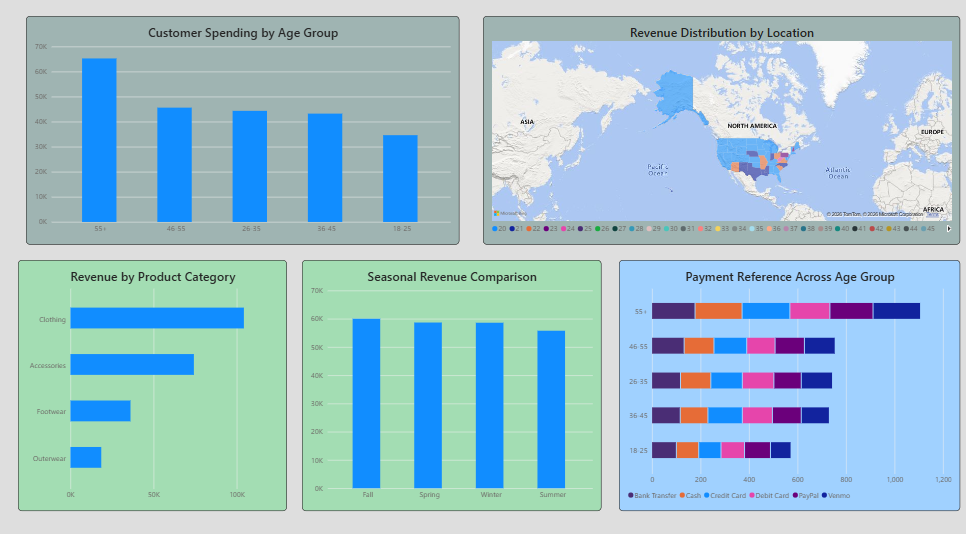

The page's visual inventory and layout, read from the dashboard file:
{"tool":"powerbi","page":{"name":"Page 2","canvas":[1920,1080],"ordinal":1},"visuals":[{"type":"clusteredColumnChart","title":"Customer Spending by Age Group","fields":{"Category":["shopping_table (2).Age Group"],"Y":["Sum(shopping_table (2).Purchase_Amount_USD)"]},"box":[62.1,45.7,851.3,449.4],"z":0},{"type":"barChart","title":"Payment Reference Across Age Group","fields":{"Category":["shopping_table (2).Age Group"],"Series":["shopping_table (2).Payment_Method"],"Y":["CountNonNull(shopping_table (2).Customer_ID)"]},"box":[1227.6,524.3,670.4,493.2],"z":1000},{"type":"filledMap","title":"Revenue Distribution by Location","fields":{"Category":["shopping_table (2).Location"],"Series":["shopping_table (2).Purchase_Amount_USD"]},"box":[960.9,45.7,937.2,449.4],"z":2000},{"type":"clusteredBarChart","title":"Revenue by Product Category","fields":{"Category":["shopping_table (2).Category"],"Y":["Sum(shopping_table (2).Purchase_Amount_USD)"]},"box":[47.5,524.3,528,493.2],"z":3000},{"type":"clusteredColumnChart","title":"Seasonal Revenue Comparison","fields":{"Category":["shopping_table (2).Season"],"Y":["Sum(shopping_table (2).Purchase_Amount_USD)"]},"box":[604.7,524.3,588.2,493.2],"z":4000}]}

Visuals, with their boxes in screenshot pixels (x1, y1, x2, y2), scaled from the page's 1920x1080 canvas onto the 966x534 screenshot:
"Customer Spending by Age Group" clusteredColumnChart: locate(31, 23, 460, 245)
"Payment Reference Across Age Group" barChart: locate(618, 259, 955, 503)
"Revenue Distribution by Location" filledMap: locate(483, 23, 955, 245)
"Revenue by Product Category" clusteredBarChart: locate(24, 259, 290, 503)
"Seasonal Revenue Comparison" clusteredColumnChart: locate(304, 259, 600, 503)
